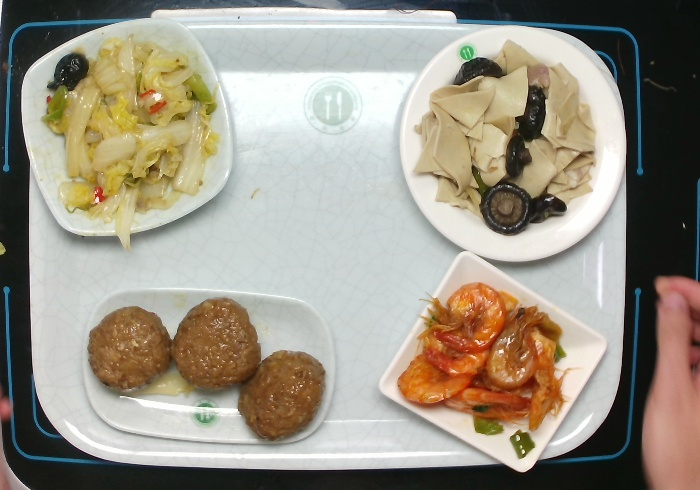WCQzf-Bai_Se_Si_Fang_Die: (376, 248, 612, 475)
WCQzf-Da_Si_Fang_Die: (18, 18, 236, 240)
WCQzf-Kuan_Bian_Yuan_Die: (393, 24, 632, 263)
WCQzf-Tuo_Yuan_Pan: (79, 285, 337, 449)
